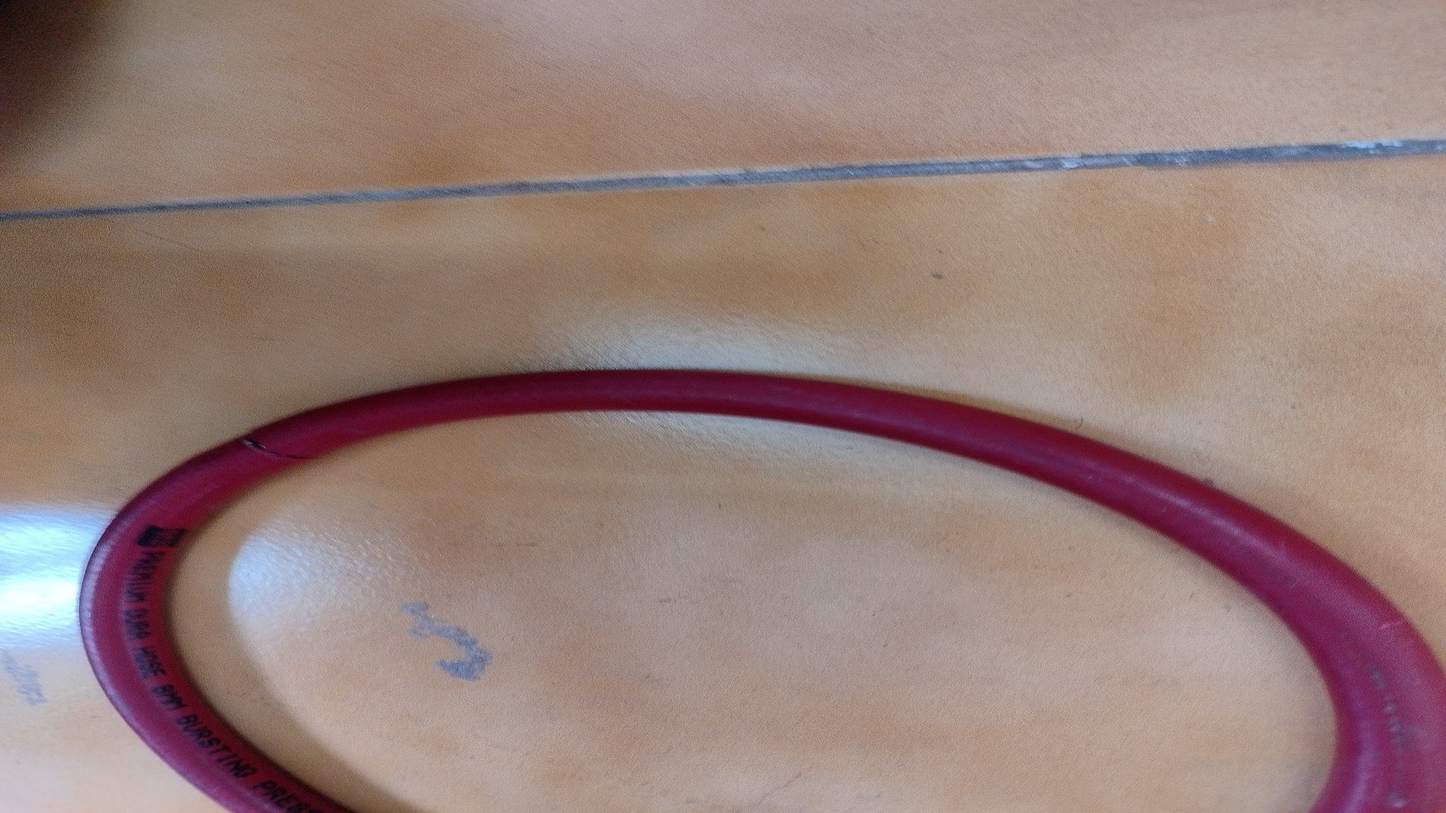Red ring: (84, 372, 1436, 813)
